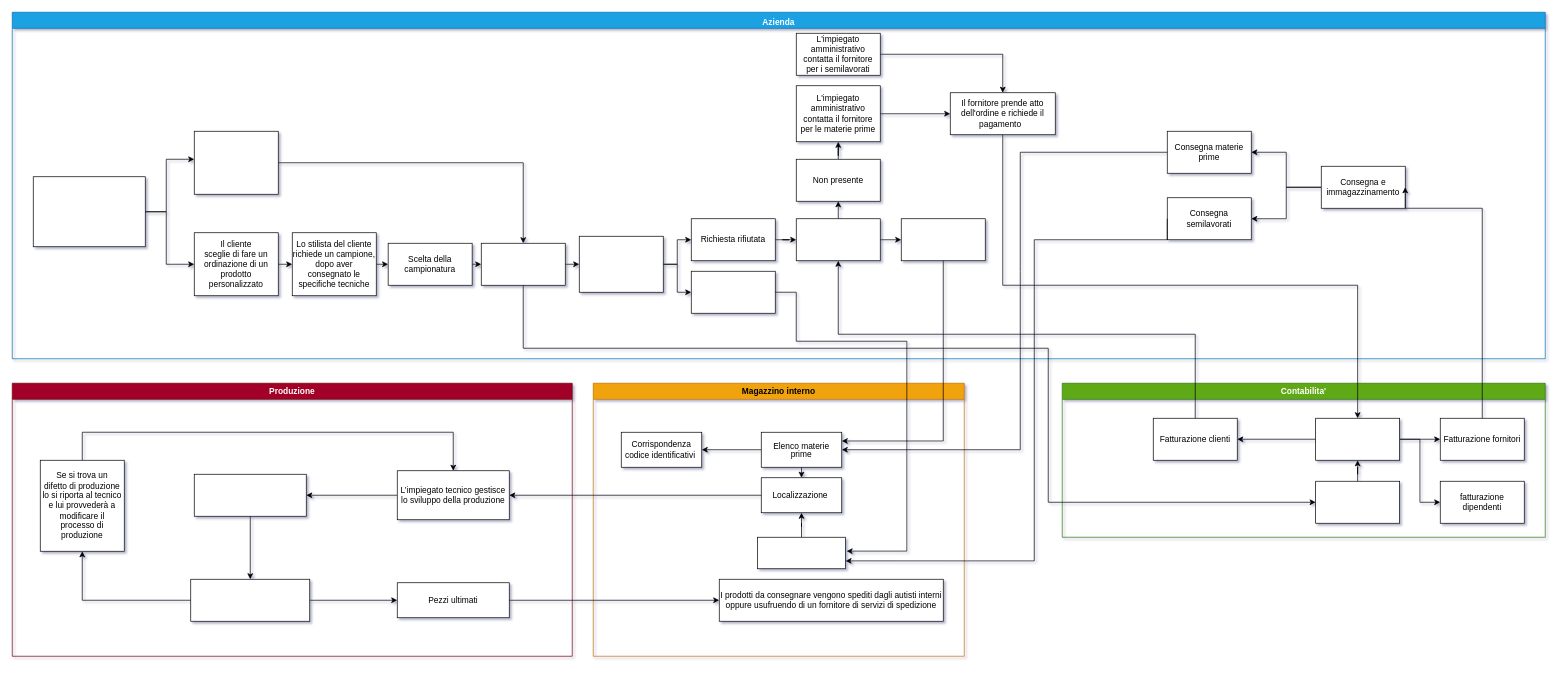
Image size: 1562x673. Some labels were removed from this diagram. Here are the shapes that lost their labels. From the top down, the centre of each, then its label:
At point 236,162: "Il cliente sceglie un prodotto dalla collezione esistente".
At point 89,211: "Il cliente comunica con l'impiegato dell'azienda per effettuare un ordine".
At point 838,239: "Ricerca in magazzino dei materiali da lavoro".
At point 943,239: "Presente".
At point 523,264: "Il campione viene approvato".
At point 621,264: "Richiesta dei semilavorati (inserti) da parte dell'impiegato di produzione".
At point 733,292: "Richiesta approvata e inzio della ricerca nel magazzino".
At point 1357,439: "Impiegato amministrativo gestisce il pagamento".
At point 250,495: "Il capoturno riceve i comandi e organizza gli orari di lavoro".
At point 1357,502: "Il Cliente effettua il pagamento".
At point 801,553: "Elenco semilavorato".
At point 250,600: "Operaio del controllo qualità effettua verifica i pezzi".
